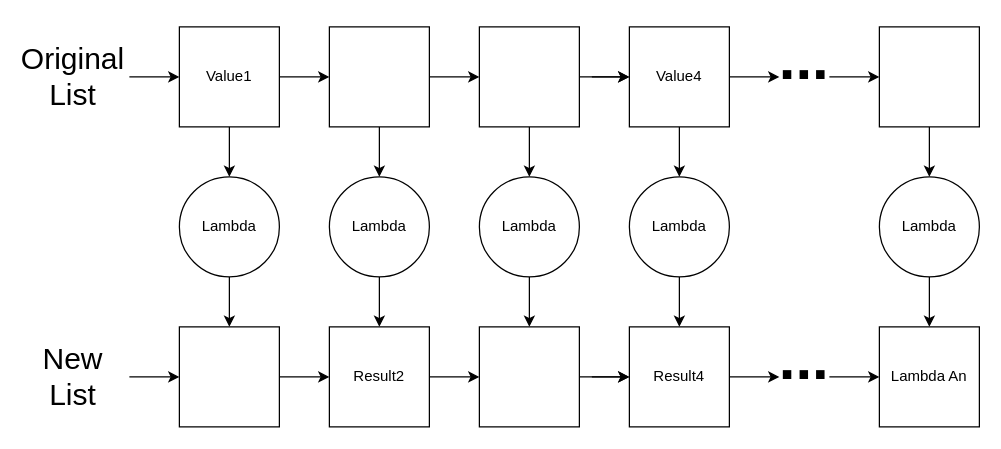
This 1001x449 diagram has some shape labels left out. The shapes that lost their labels are listed below. From the top down, each one's centre as x and y in pixels, then its label:
point (378, 76): Value2
point (528, 76): Value3
point (928, 76): ValueN
point (228, 376): Result1
point (528, 376): Result3
